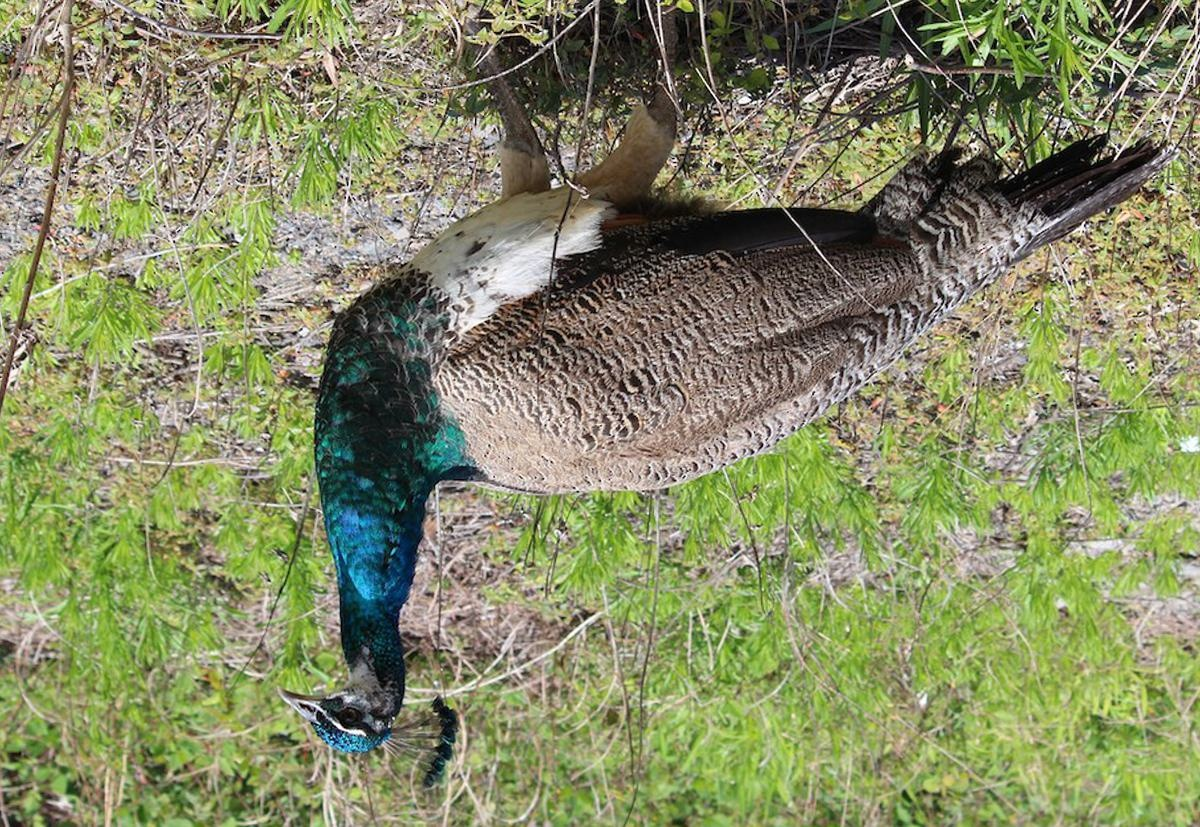peacock: (293, 165, 1130, 795)
